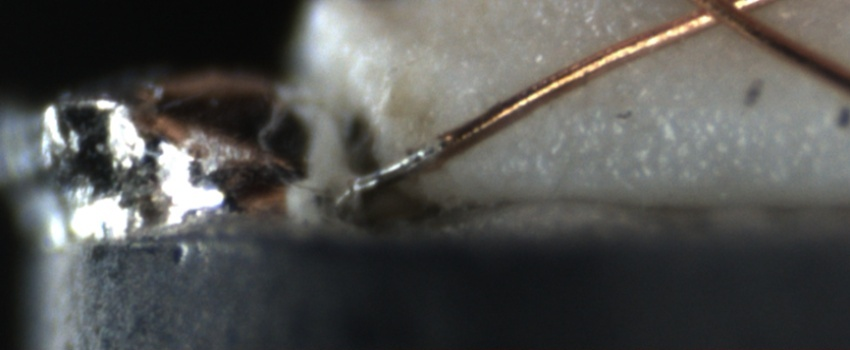CL: (677, 1, 768, 34)
TS: (356, 137, 445, 197)
